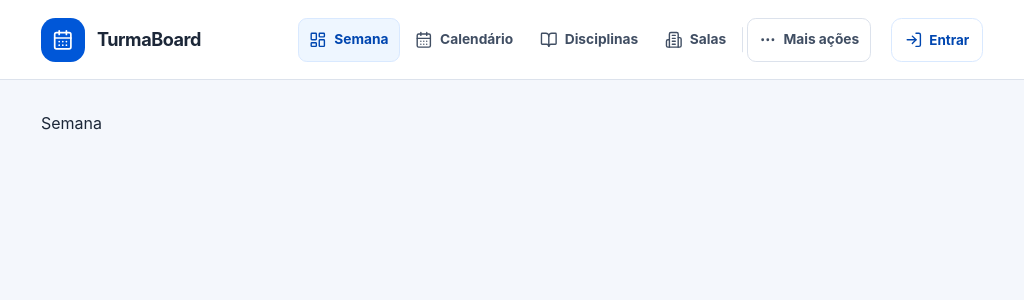
Scenario: AppShell › navigates to the secondary destinations from the menu and closes it
The image size is (1024, 300).
Click the button "Mais ações" at (809, 40), box [747,18,871,62]
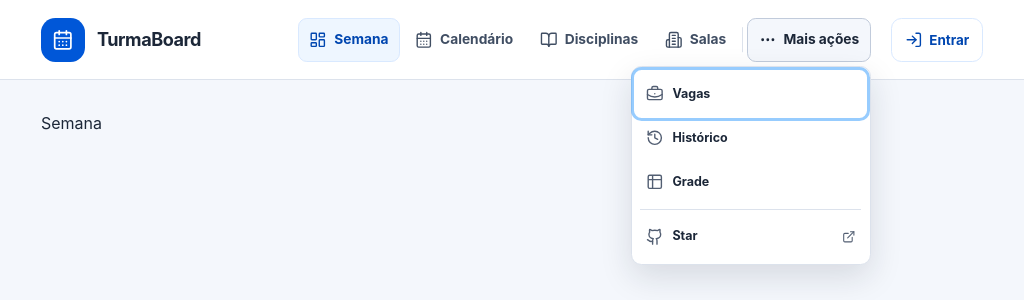
Click the link "Histórico" at (687, 138), box [646,129,728,147]
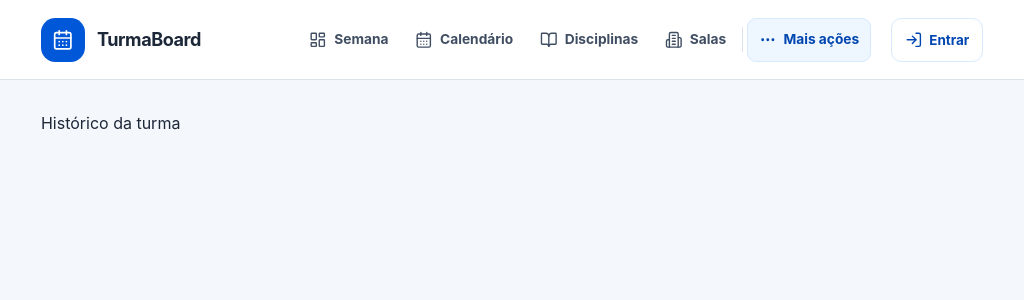
Expected: the text "Histórico da turma" is shown, [41,113,180,133]
Expected: the link "Grade" is gone
